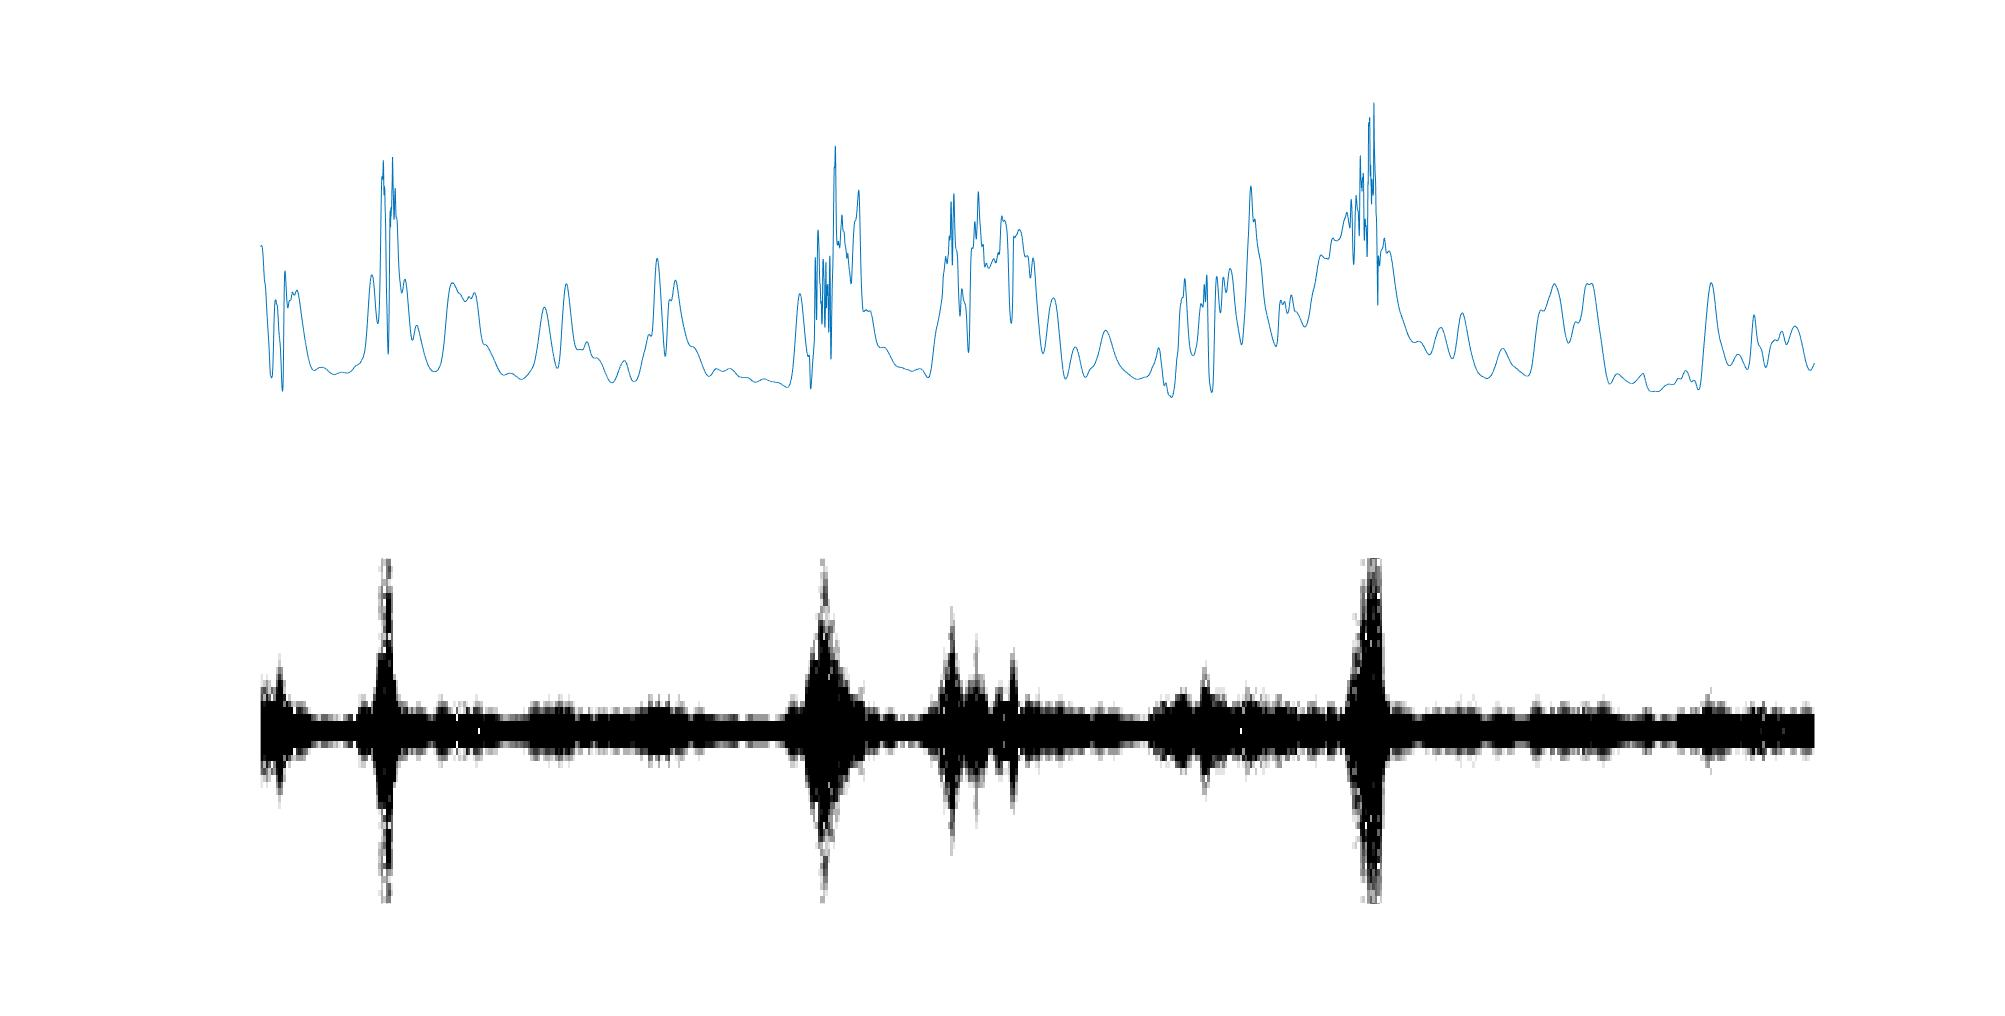spot: (791, 568, 861, 901), (1344, 555, 1398, 915), (936, 608, 993, 860), (373, 557, 402, 908)
